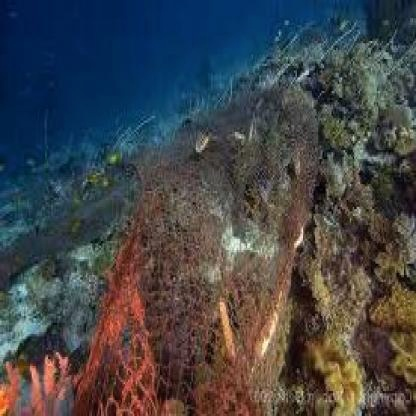net: (89, 84, 316, 416)
